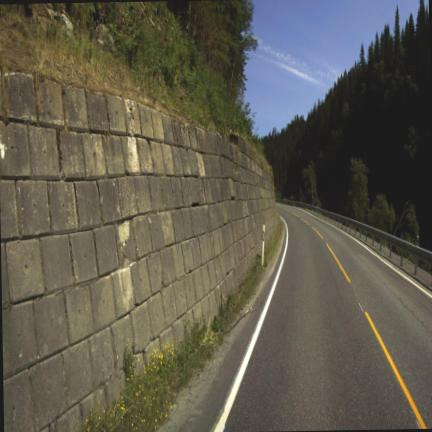Road: (225, 207, 431, 430)
